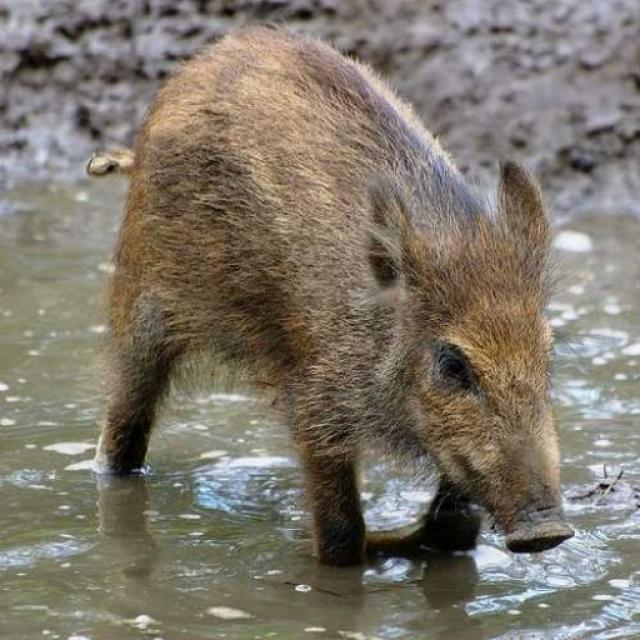pig: (107, 19, 592, 592)
